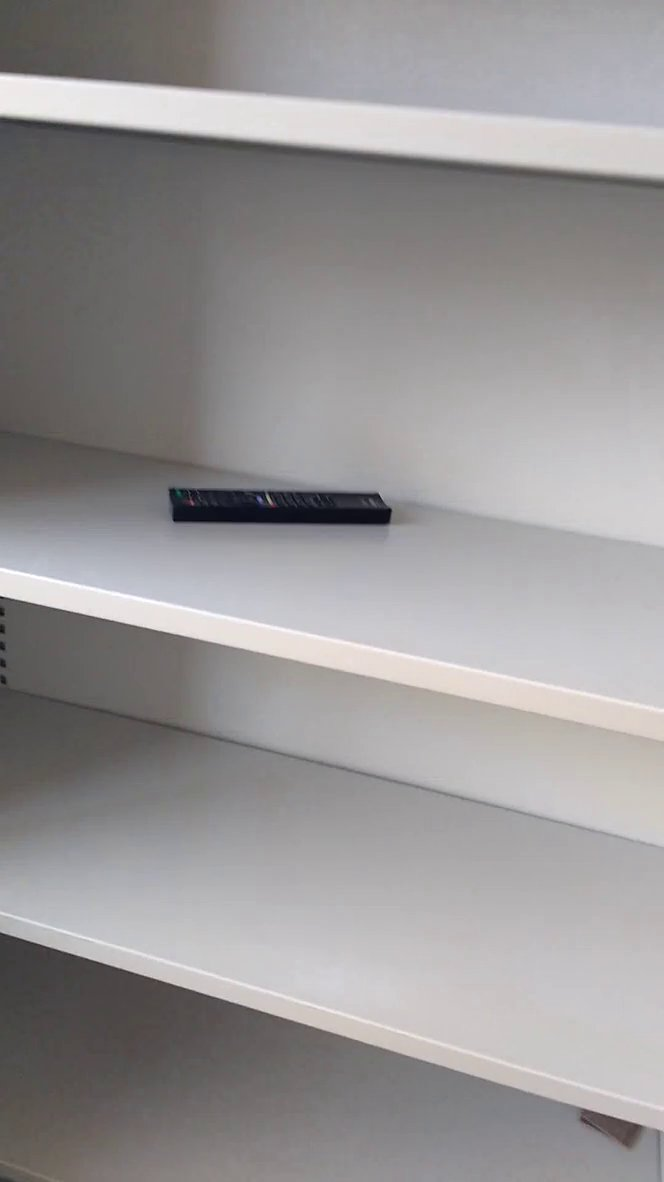remote: (154, 476, 407, 555)
